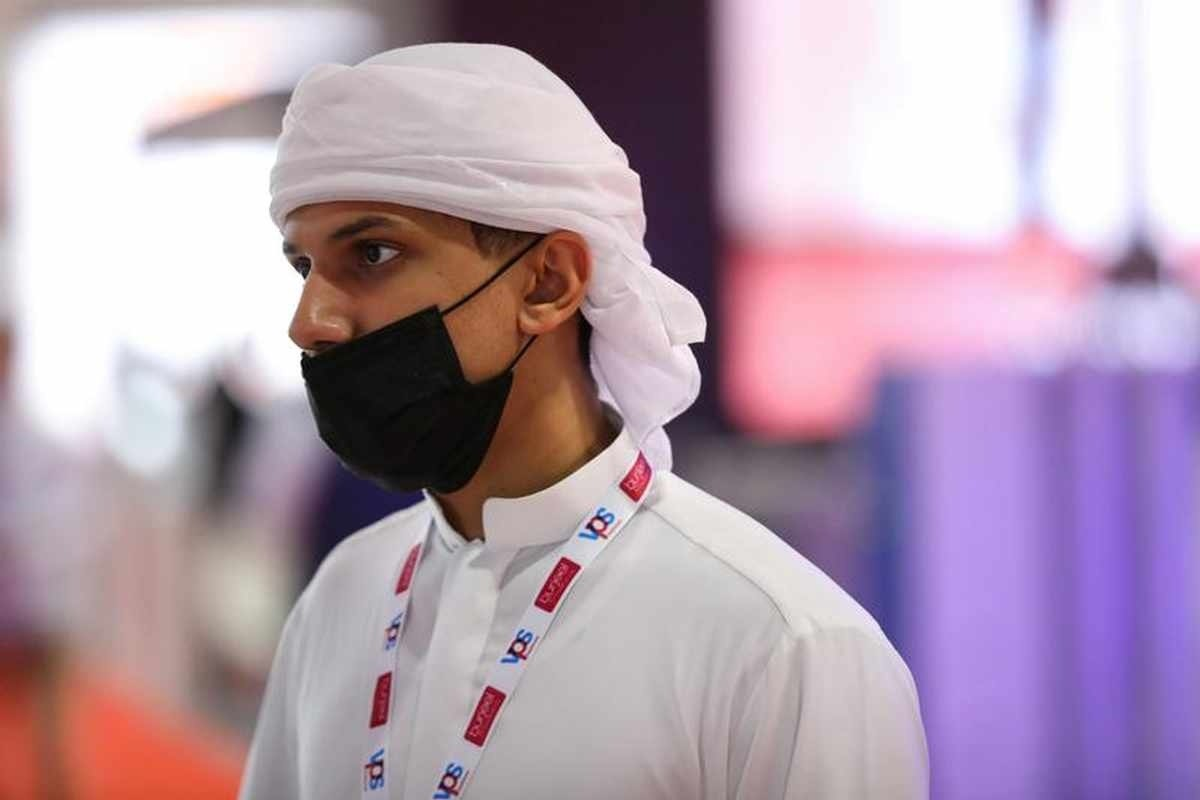face_with_mask: (269, 43, 646, 498)
